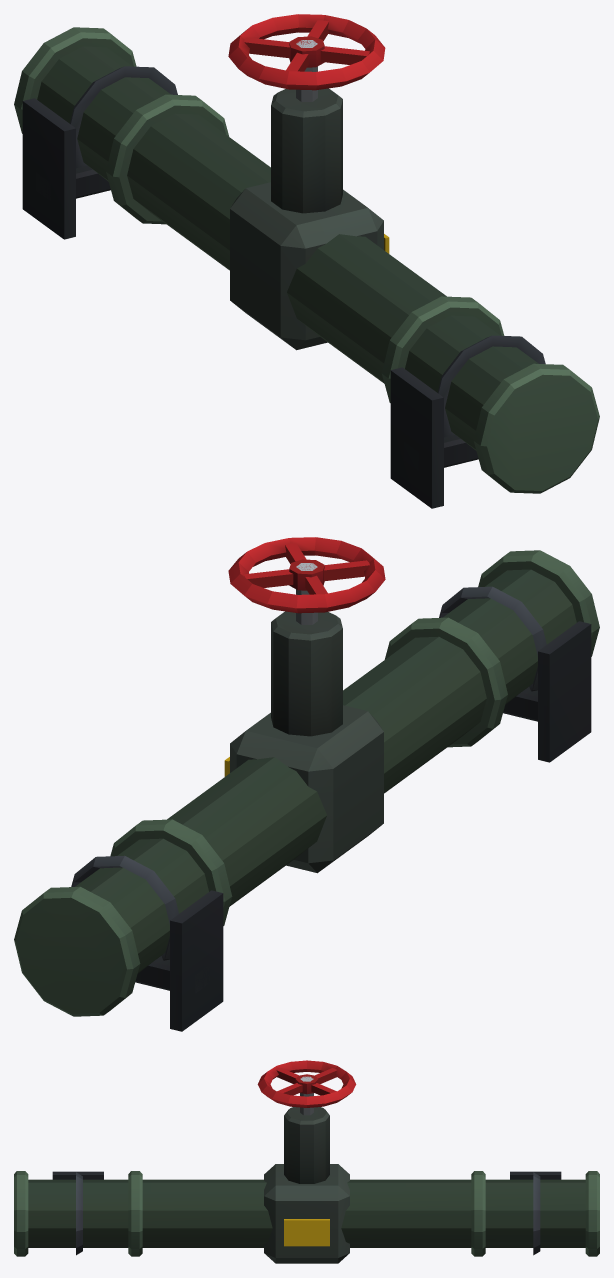
The model's file is pipe_valve.glb.
3 renders of one model, top to bottom at view 1: azimuth 30°, elevation 25°; view 2: azimuth 150°, elevation 25°; view 3: azimuth 270°, elevation 25°, orthographic. The views are drawn at different scales.
Visible parts, largest first — view 1: Body; view 2: Body; view 3: Body.
Part boxes in pixels (x1,y1,x2,y2): Body: (14,14,599,508); Body: (14,537,599,1031); Body: (14,1060,599,1263).
Size of the model in its own units: 0.372 by 0.712 by 2.05.
